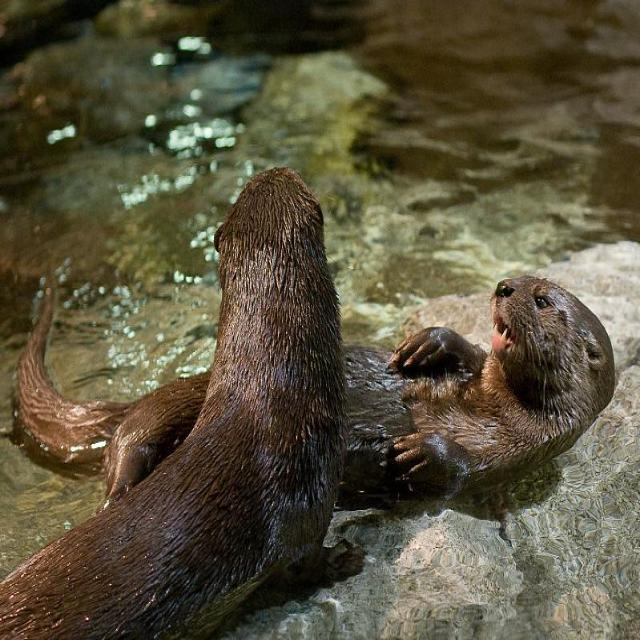otter: (1, 166, 364, 640), (13, 272, 619, 501)
